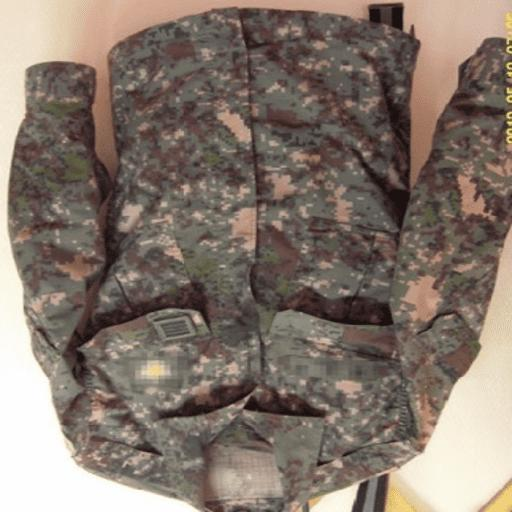korea army: (6, 5, 510, 510)
